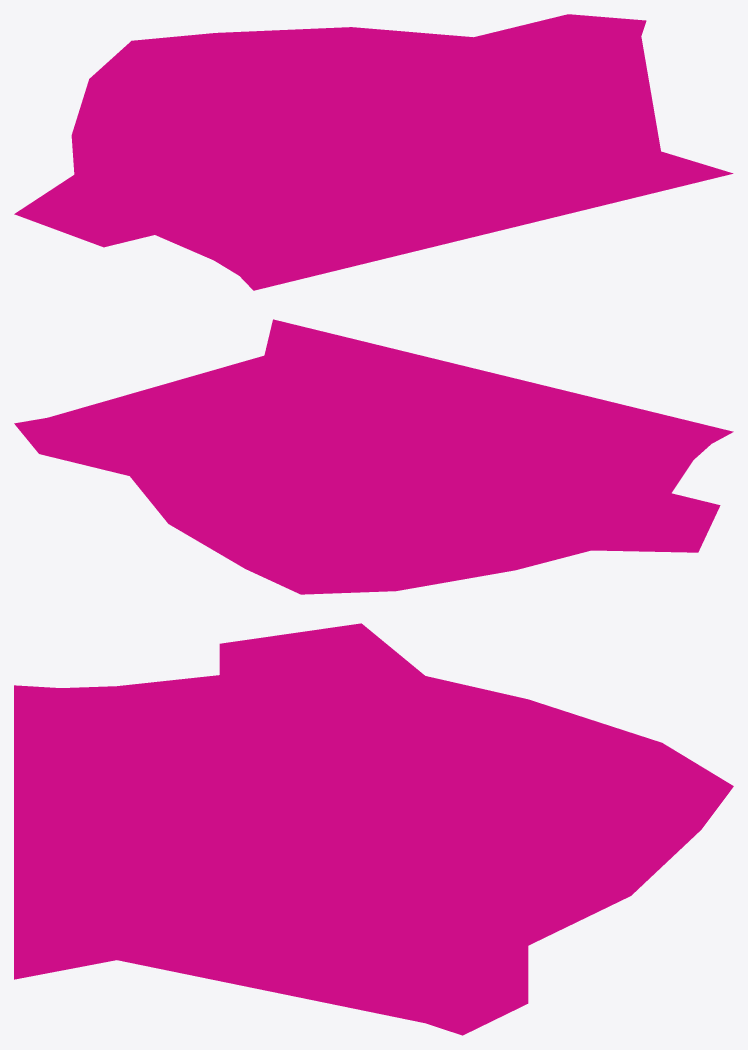
File: Parchment_P_010.fbx
3 views of the same model, one above another, from view 1: azimuth 30°, elevation 25°; view 2: azimuth 150°, elevation 25°; view 3: azimuth 270°, elevation 25° (orthographic). The views are drawn at different scales.
Parts seen in each view (by area): view 1: Parchment_P_010; view 2: Parchment_P_010; view 3: Parchment_P_010.
Part boxes in pixels (x1=…): Parchment_P_010: x1=14, y1=14, x2=733, y2=290; Parchment_P_010: x1=14, y1=319, x2=733, y2=594; Parchment_P_010: x1=14, y1=623, x2=733, y2=1035.
Bounding box in the file's own units: 29.31 × 6.86e-15 × 21.63.
